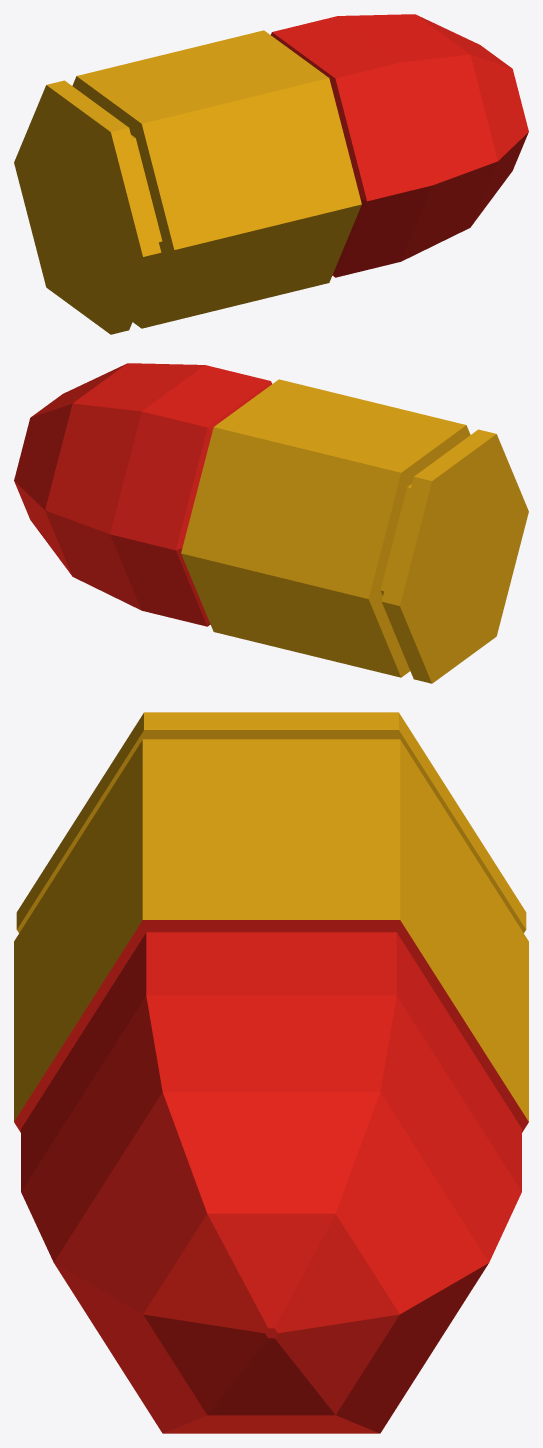
Rendered from Bullet.obj.
The picture shows the model from 3 angles, top to bottom: view 1: azimuth 30°, elevation 25°; view 2: azimuth 150°, elevation 25°; view 3: azimuth 270°, elevation 25°; orthographic projection. The views are drawn at different scales.
Parts seen in each view (by area): view 1: Zylinder; view 2: Zylinder; view 3: Zylinder.
Boxes of the visible parts, <box> form: Zylinder: <box>14,14,528,334</box>; Zylinder: <box>14,363,528,683</box>; Zylinder: <box>14,712,528,1433</box>.
Bounding box in the file's own units: 0.2407 × 0.1077 × 0.1244.
Materials: 1 (1 with a texture image).
